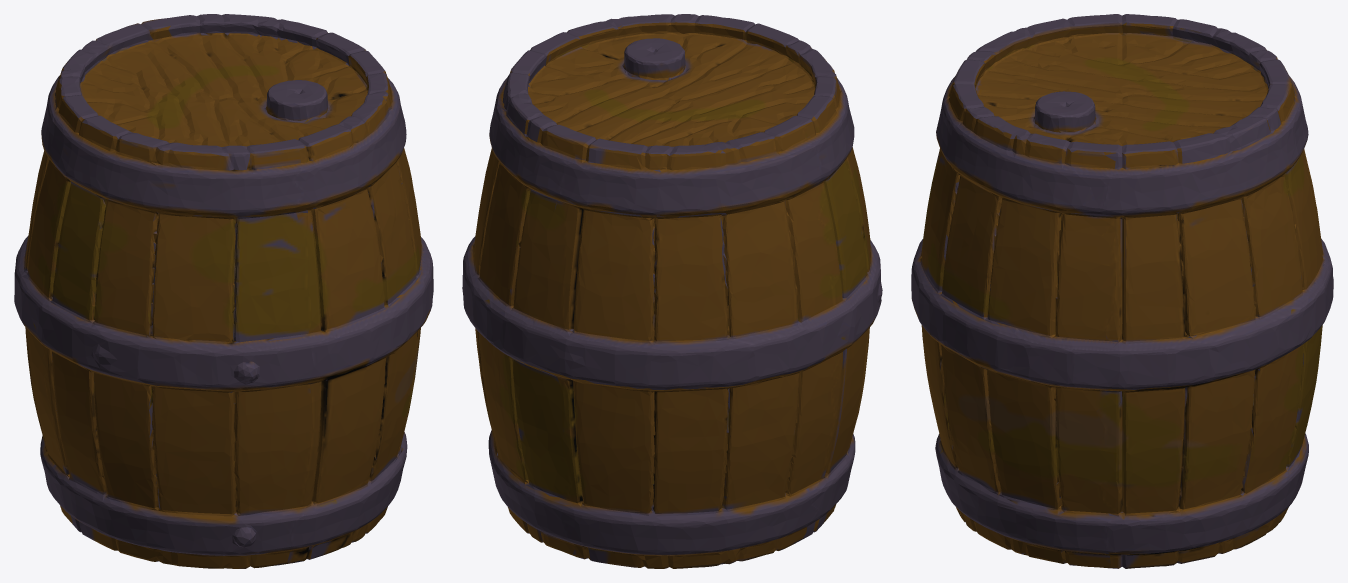
Rendered from barril.glb.
3 renders of one model, left to right at view 1: azimuth 30°, elevation 25°; view 2: azimuth 150°, elevation 25°; view 3: azimuth 270°, elevation 25°, orthographic.
Parts seen in each view (by area): view 1: tmpzoldilp5.ply; view 2: tmpzoldilp5.ply; view 3: tmpzoldilp5.ply.
Boxes of the visible parts, x1,y1,x2,y2 form: tmpzoldilp5.ply: [14, 14, 433, 568]; tmpzoldilp5.ply: [462, 14, 882, 568]; tmpzoldilp5.ply: [911, 14, 1333, 568].
Size of the model in its own units: 1.79 by 1.96 by 1.79.
Materials: 1 (1 with a texture image).
